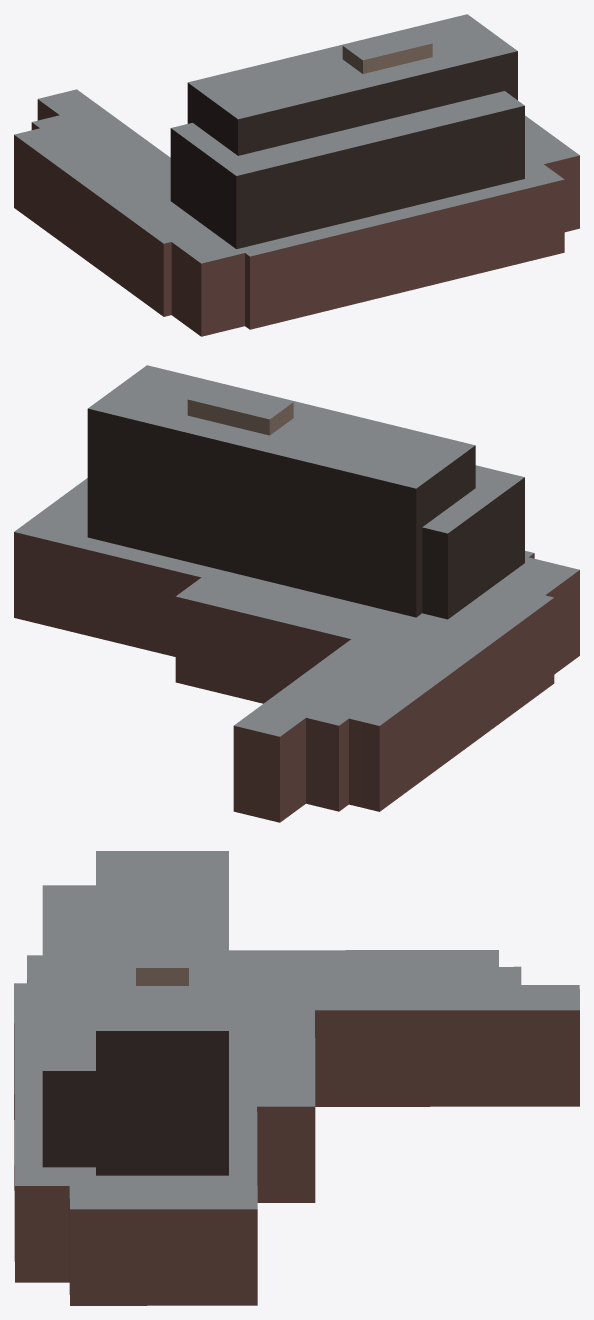
Rendered from city_centre_1.glb.
3 views of the same model, one above another, from view 1: azimuth 30°, elevation 25°; view 2: azimuth 150°, elevation 25°; view 3: azimuth 270°, elevation 25° (orthographic). The views are drawn at different scales.
Parts seen in each view (by area): view 1: City_Centre_1; view 2: City_Centre_1; view 3: City_Centre_1.
Boxes of the visible parts, x1=… form: City_Centre_1: x1=14, y1=14, x2=579, y2=336; City_Centre_1: x1=14, y1=365, x2=579, y2=822; City_Centre_1: x1=14, y1=851, x2=579, y2=1305.
Bounding box in the file's own units: 92.23 × 43 × 85.06.
